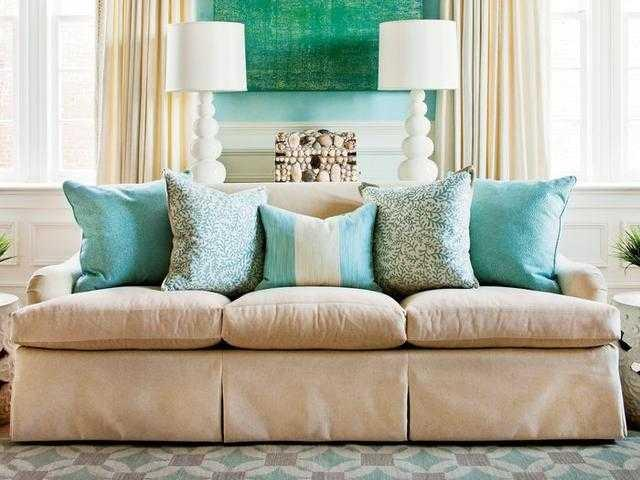pillow: (456, 169, 592, 297), (357, 164, 479, 296), (160, 167, 268, 297), (56, 176, 174, 290), (255, 200, 381, 292)
